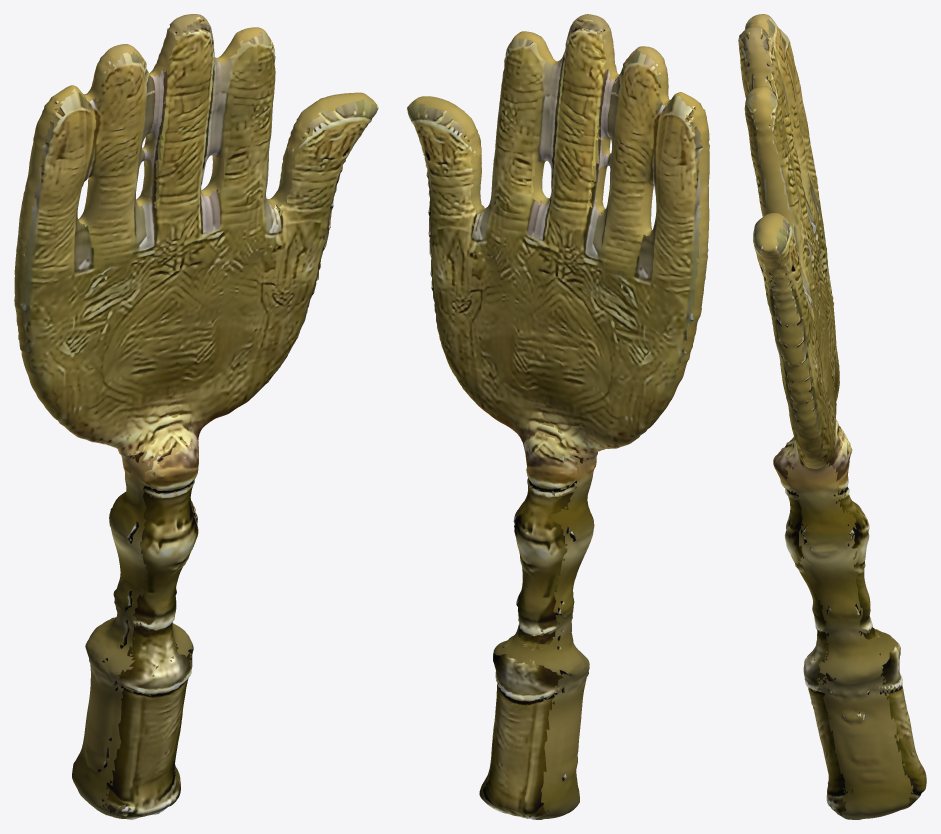
The model's file is kfl-2249.glb.
3 renders of one model, left to right at view 1: azimuth 30°, elevation 25°; view 2: azimuth 150°, elevation 25°; view 3: azimuth 270°, elevation 25°, orthographic. The views are drawn at different scales.
Visible parts, largest first — view 1: kfl-2249; view 2: kfl-2249; view 3: kfl-2249.
Part boxes in pixels (box(x1,y1,x2,y2)): kfl-2249: box(14, 14, 378, 819); kfl-2249: box(407, 14, 709, 819); kfl-2249: box(738, 14, 926, 819).
Bounding box in the file's own units: 0.4259 × 0.993 × 0.2172.
4 materials, 4 textured.
